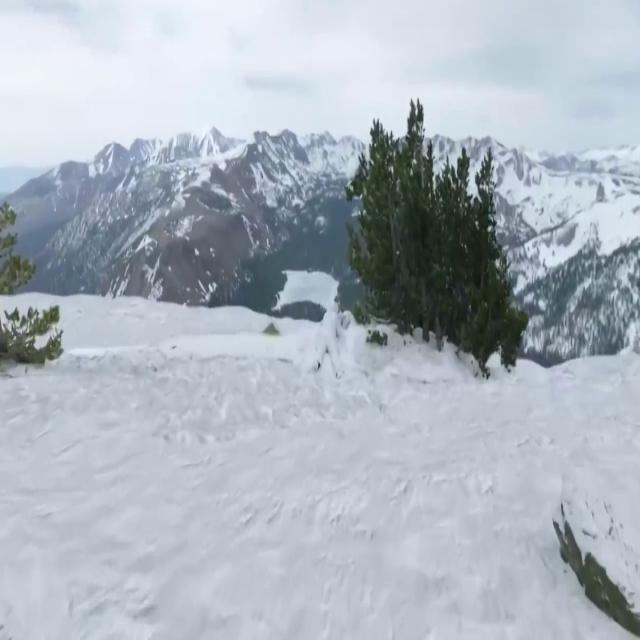Camouflage: (306, 311, 360, 389)
